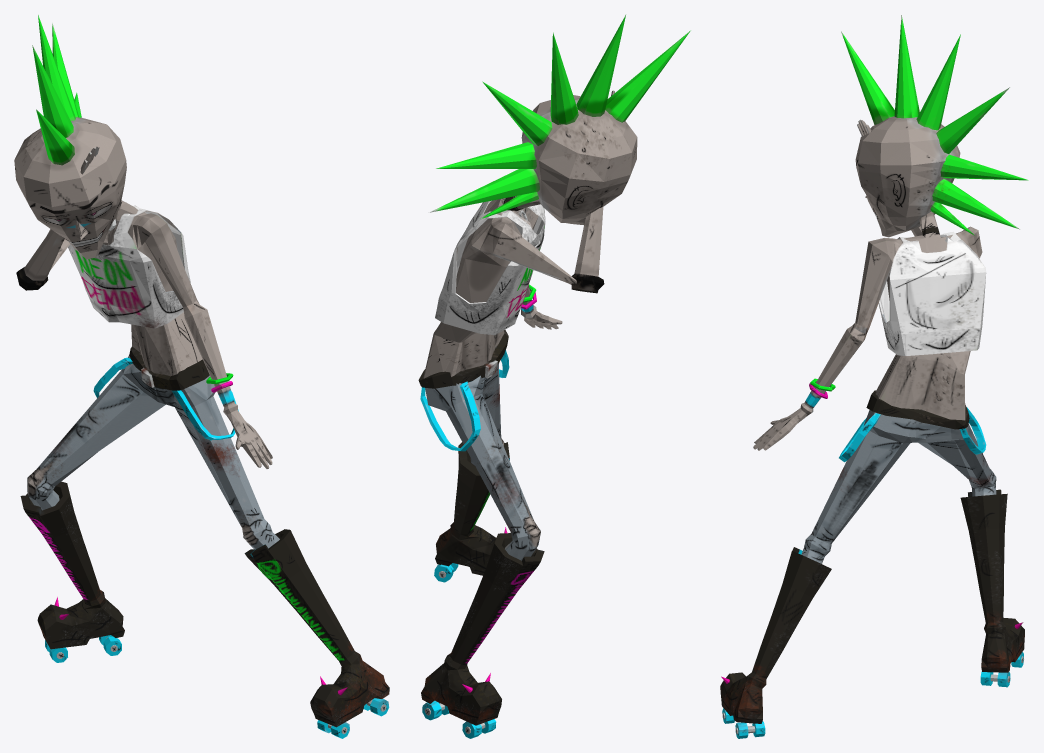
File: punkAnimation_000066.obj
3 views of the same model, side by side, from view 1: azimuth 30°, elevation 25°; view 2: azimuth 150°, elevation 25°; view 3: azimuth 270°, elevation 25° (orthographic). The views are drawn at different scales.
Visible parts, largest first — view 1: Cube.004_Cube.003; view 2: Cube.004_Cube.003; view 3: Cube.004_Cube.003.
Part boxes in pixels (bbox=[...]): Cube.004_Cube.003: bbox=[14, 15, 389, 738]; Cube.004_Cube.003: bbox=[418, 15, 690, 738]; Cube.004_Cube.003: bbox=[720, 15, 1028, 738].
Bounding box in the file's own units: 3.1 × 6.72 × 3.06.
